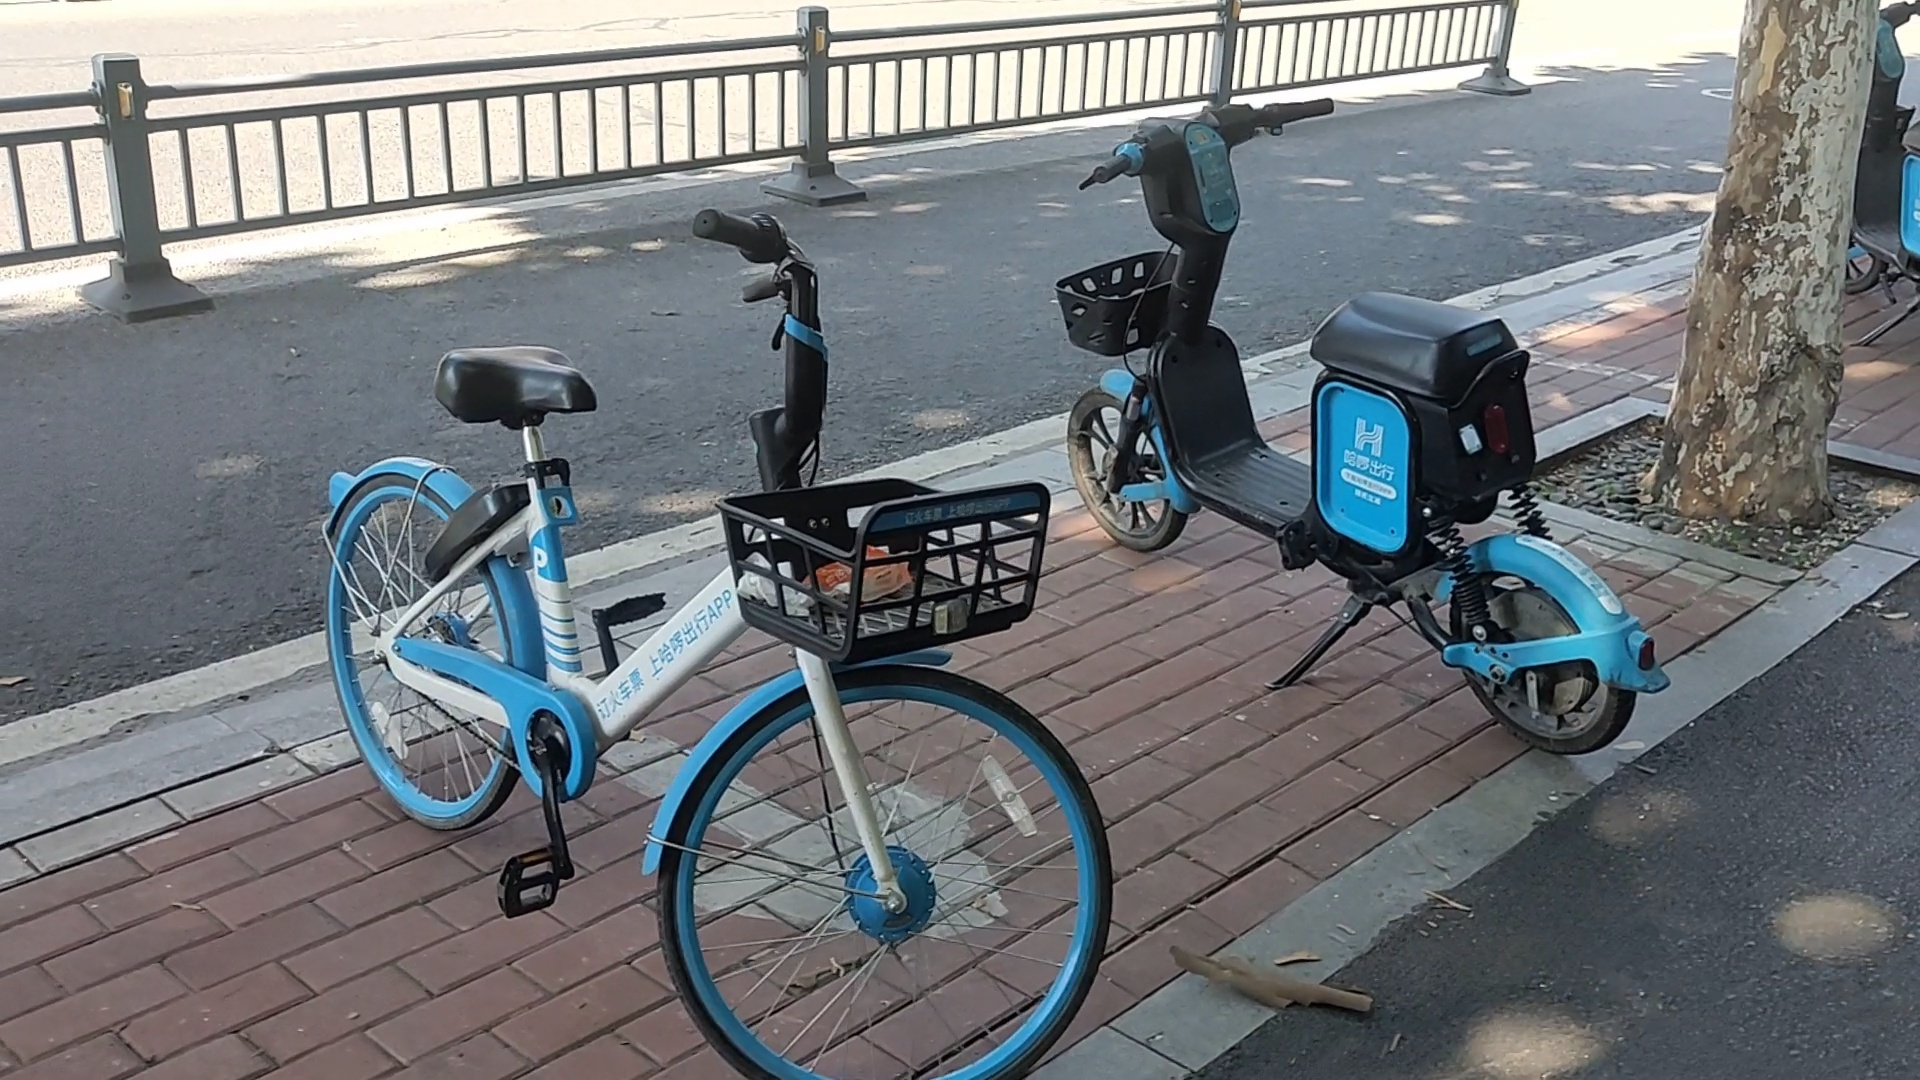non-vehicle: (330, 152, 1102, 1068), (1073, 84, 1667, 766)
